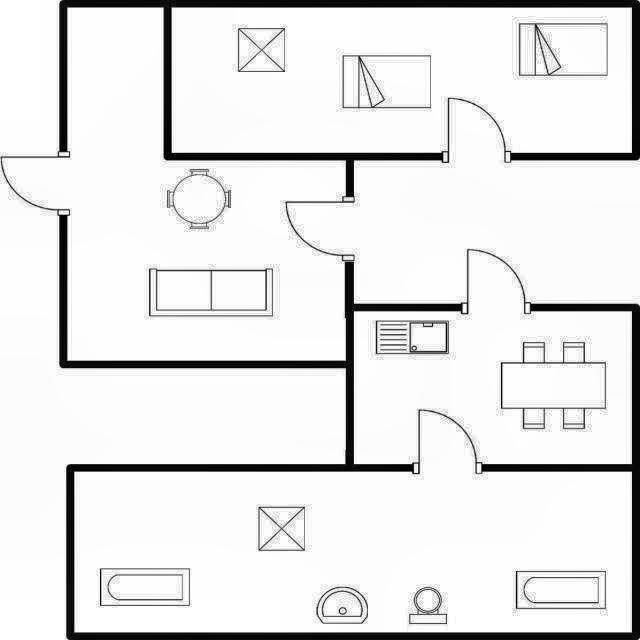room: (67, 7, 346, 361), (74, 471, 632, 633), (172, 7, 632, 153), (354, 311, 632, 464)
